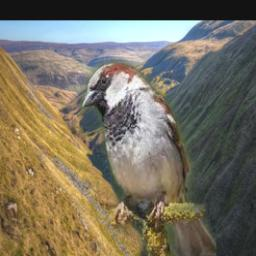Sparrow: (81, 60, 217, 256)
